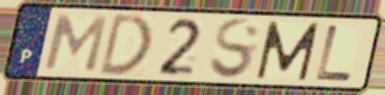2: (158, 16, 204, 79)
D: (96, 11, 155, 78)
L: (313, 23, 356, 83)
M: (40, 13, 111, 75), (254, 19, 322, 82)
S: (208, 16, 264, 82)
